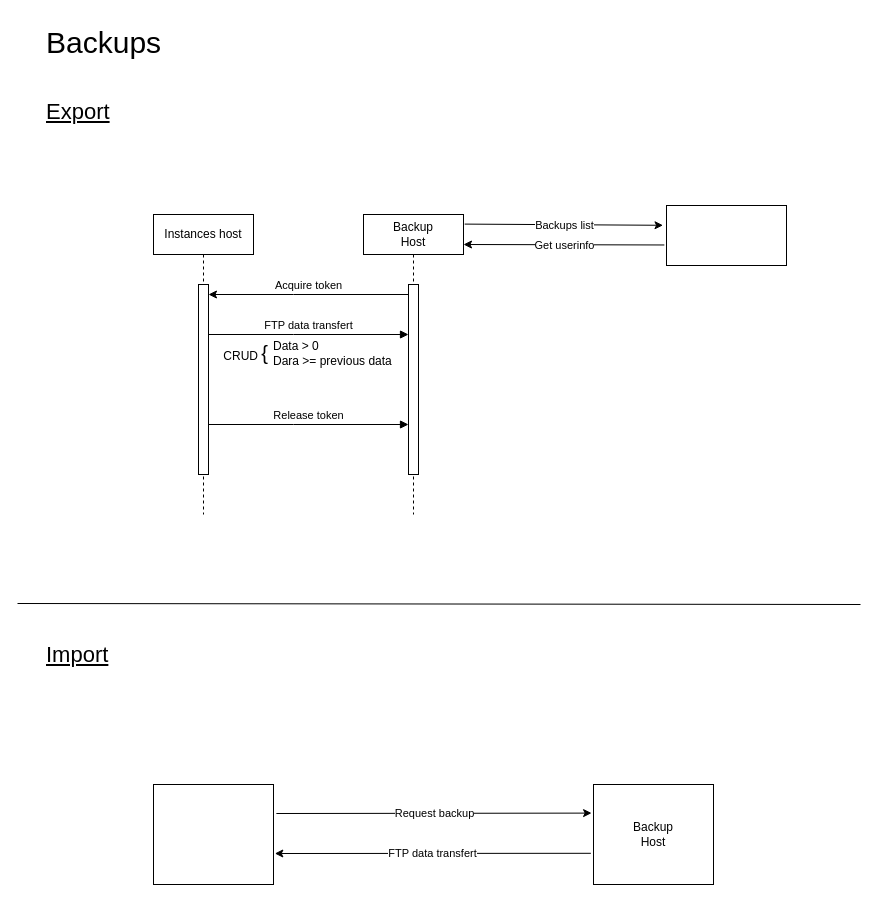
This 879x902 diagram has some shape labels left out. The box of each missing label's shape, as (x1, y1, x2, y2) in pixels:
ADMIN: (666, 204, 786, 266)
Host instances Import: (152, 784, 274, 884)
